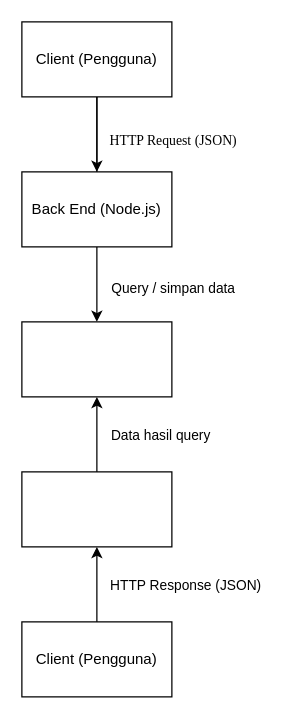
Image size: 283x719. Some labels were removed from this diagram. The shapes that lost their labels are listed below. From the top down, each one's box as (x1, y1, x2, y2) in pixels, then its label:
(21, 321, 172, 397): Database
(21, 471, 172, 547): HTTP Response
